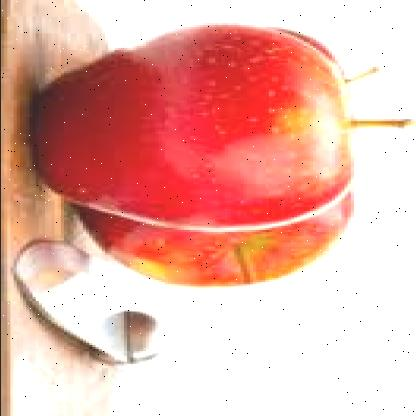apple: (38, 34, 346, 224), (72, 176, 356, 286)
